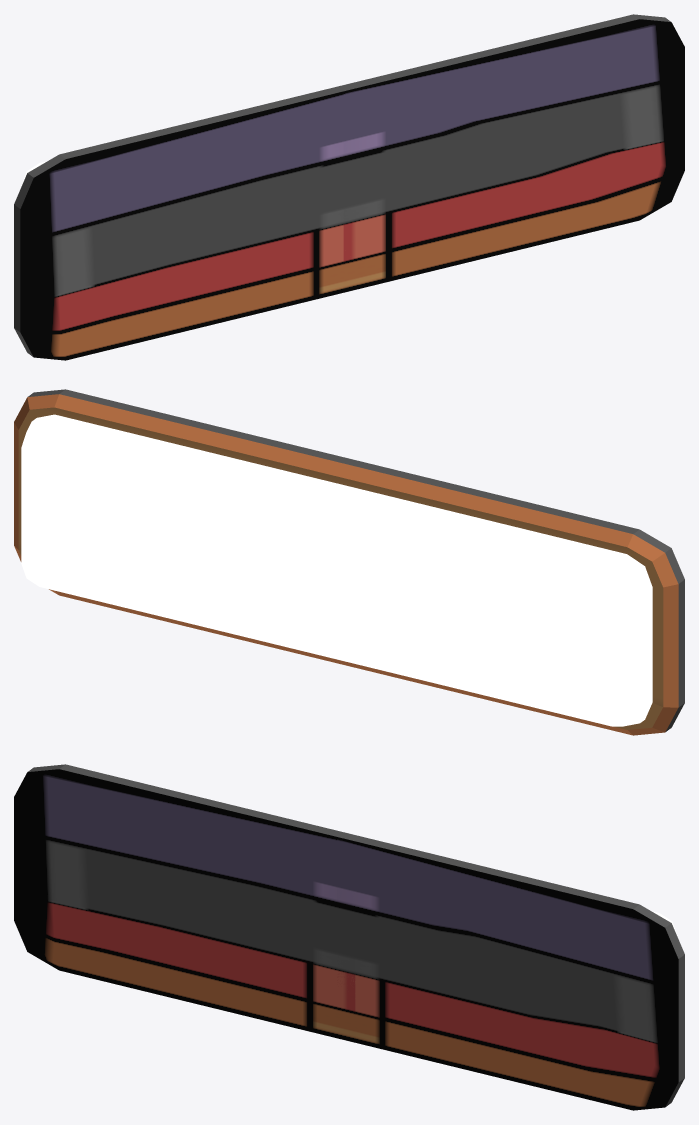
Rendered from Entrance_Light.glb.
3 views of the same model, one above another, from view 1: azimuth 30°, elevation 25°; view 2: azimuth 150°, elevation 25°; view 3: azimuth 330°, elevation 25° (orthographic).
Visible parts, largest first — view 1: Door_light; view 2: Door_light; view 3: Door_light.
Part boxes in pixels (box(x1,y1,x2,y2)): Door_light: box(14, 14, 684, 360); Door_light: box(14, 389, 684, 735); Door_light: box(14, 764, 684, 1110).
Size of the model in its own units: 0.4106 by 0.1189 by 0.0337.
Materials: 2 (1 with a texture image).
